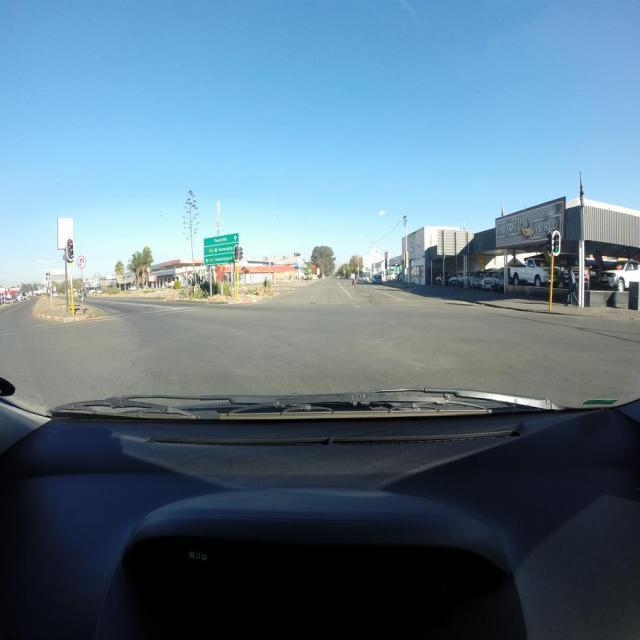pothole: (309, 302, 316, 304)
